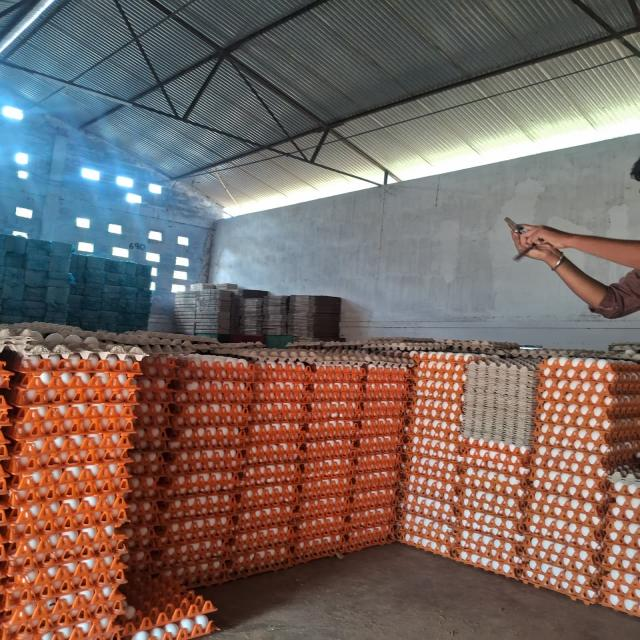egg_tray: (2, 397, 131, 640), (523, 358, 639, 602), (160, 356, 252, 586), (297, 363, 402, 560), (407, 420, 527, 576), (229, 361, 310, 578), (3, 496, 124, 636), (531, 358, 639, 502), (399, 352, 475, 556), (294, 362, 365, 562), (532, 358, 639, 490), (7, 370, 135, 474), (157, 428, 236, 584), (166, 356, 253, 496), (344, 365, 409, 550), (343, 364, 407, 550), (123, 354, 175, 580), (5, 416, 131, 504), (456, 438, 529, 577), (5, 402, 133, 481), (6, 462, 127, 544), (0, 558, 119, 640), (523, 490, 607, 602), (295, 418, 359, 561), (523, 490, 605, 601), (229, 452, 300, 577), (343, 416, 403, 550), (405, 353, 473, 466), (153, 494, 236, 586), (294, 438, 355, 561), (0, 322, 218, 356), (457, 436, 528, 538), (536, 358, 639, 428), (534, 410, 639, 478), (227, 478, 298, 578), (523, 518, 603, 602), (521, 518, 601, 602), (407, 352, 473, 453), (531, 440, 638, 502), (245, 362, 310, 464), (525, 468, 608, 544), (464, 360, 537, 446), (119, 577, 217, 640), (596, 474, 639, 614), (399, 456, 457, 556), (173, 356, 253, 428), (601, 472, 639, 616), (291, 474, 352, 561), (522, 535, 601, 602), (531, 440, 639, 488), (7, 432, 130, 474), (165, 417, 246, 480), (526, 490, 606, 550), (403, 418, 459, 502), (357, 384, 408, 476), (7, 370, 135, 406), (160, 518, 227, 586), (458, 438, 529, 500), (241, 422, 305, 488), (302, 468, 397, 512), (343, 472, 396, 550), (132, 356, 175, 452), (251, 360, 313, 424), (127, 448, 165, 552), (307, 418, 401, 460), (533, 418, 639, 454), (456, 465, 526, 518), (537, 390, 639, 426), (454, 524, 521, 578), (410, 372, 463, 440), (161, 493, 237, 540), (228, 524, 293, 578), (465, 358, 539, 404), (342, 487, 396, 550), (9, 356, 138, 382), (293, 500, 347, 562), (5, 352, 141, 376), (310, 363, 365, 422), (463, 400, 533, 446), (412, 352, 476, 402), (0, 338, 145, 360), (177, 352, 253, 392), (303, 420, 357, 476), (134, 376, 172, 453), (237, 485, 296, 534), (529, 466, 605, 504), (399, 474, 456, 524), (468, 356, 542, 394), (165, 442, 243, 478), (251, 360, 313, 404), (341, 502, 396, 551), (0, 618, 119, 640), (361, 364, 411, 416), (177, 354, 253, 388), (540, 356, 639, 382), (245, 423, 304, 466), (403, 408, 460, 452), (399, 512, 456, 556), (121, 614, 216, 640), (295, 478, 351, 522), (122, 522, 163, 580), (299, 476, 353, 518), (465, 361, 507, 414), (253, 358, 313, 394), (405, 434, 459, 474), (175, 376, 251, 404), (311, 362, 366, 399), (137, 355, 176, 404), (600, 567, 639, 616), (132, 402, 170, 452), (173, 402, 248, 427), (366, 360, 414, 398), (357, 414, 406, 451), (301, 350, 413, 366), (607, 468, 639, 522), (237, 462, 300, 489), (364, 364, 411, 400), (413, 394, 461, 424), (429, 338, 518, 354), (0, 395, 10, 526), (247, 422, 305, 444), (305, 418, 358, 442), (0, 401, 10, 526), (310, 398, 361, 421), (249, 402, 307, 422), (0, 362, 13, 440), (140, 354, 176, 382), (361, 399, 409, 419), (0, 394, 11, 462), (15, 366, 49, 388), (609, 342, 639, 359), (0, 536, 6, 598), (0, 362, 13, 390), (0, 361, 13, 389), (0, 394, 11, 426), (572, 550, 593, 564), (0, 362, 11, 388), (0, 465, 7, 496), (567, 490, 589, 499), (169, 482, 184, 495), (53, 482, 69, 494), (7, 576, 17, 594), (19, 362, 29, 378), (52, 538, 65, 548), (427, 454, 453, 459), (451, 407, 461, 420), (499, 508, 515, 516), (489, 517, 500, 528), (549, 544, 560, 554), (112, 446, 125, 454), (365, 380, 371, 397), (79, 484, 89, 494), (474, 514, 485, 523), (376, 492, 385, 500), (168, 366, 175, 376), (191, 432, 201, 438), (506, 431, 513, 439), (461, 482, 474, 486), (289, 441, 299, 446), (137, 556, 141, 568), (101, 618, 109, 624), (174, 440, 186, 444), (0, 600, 3, 616), (122, 382, 130, 388), (571, 482, 579, 488), (110, 563, 116, 571), (431, 415, 446, 418), (312, 454, 323, 458), (369, 368, 376, 374), (143, 616, 153, 620), (7, 459, 12, 467), (267, 416, 279, 419), (534, 483, 541, 488), (0, 448, 5, 455), (439, 380, 443, 388), (61, 562, 69, 566), (431, 542, 436, 548), (445, 388, 450, 394), (0, 508, 3, 518), (0, 482, 3, 492), (158, 384, 165, 388), (417, 520, 424, 524), (261, 398, 275, 400), (216, 518, 223, 522), (429, 384, 435, 388), (256, 504, 262, 508), (342, 450, 346, 456), (131, 362, 138, 365), (154, 470, 158, 475), (143, 360, 146, 366), (23, 495, 29, 498), (61, 494, 70, 496), (49, 568, 53, 572), (39, 494, 43, 498), (492, 398, 495, 402), (357, 478, 359, 484), (378, 494, 381, 498), (408, 518, 412, 521), (103, 450, 107, 453), (11, 380, 13, 386), (582, 478, 586, 481), (576, 476, 579, 480), (199, 398, 203, 401), (59, 361, 63, 364), (308, 506, 313, 508), (2, 442, 7, 444), (111, 386, 116, 388), (179, 386, 184, 388), (458, 389, 461, 392), (134, 473, 137, 476), (279, 485, 282, 488), (116, 373, 119, 376), (582, 495, 585, 498), (153, 458, 155, 462), (405, 516, 409, 518), (255, 388, 259, 390), (318, 444, 322, 446), (133, 362, 137, 364), (265, 487, 269, 489), (125, 625, 127, 628), (148, 358, 154, 359), (249, 500, 252, 502), (221, 428, 224, 430), (369, 493, 371, 496), (31, 572, 34, 574), (631, 475, 633, 478), (291, 484, 294, 486), (302, 502, 305, 504), (449, 382, 455, 383), (581, 442, 583, 445), (125, 623, 127, 625), (0, 369, 1, 373), (0, 546, 1, 550), (587, 406, 589, 408), (342, 440, 344, 442), (414, 540, 415, 543), (585, 405, 588, 406), (0, 365, 1, 367), (0, 543, 1, 545), (203, 487, 205, 488), (0, 573, 1, 575), (127, 387, 129, 388), (416, 347, 418, 348), (245, 418, 246, 419), (313, 505, 314, 506), (451, 467, 452, 468), (427, 547, 428, 547), (423, 386, 424, 386), (369, 396, 370, 396), (572, 501, 577, 501), (0, 556, 1, 556), (0, 525, 1, 525), (185, 430, 188, 430), (45, 544, 45, 546), (385, 494, 386, 494), (511, 528, 512, 528), (452, 481, 454, 481), (307, 454, 308, 454), (336, 479, 343, 479), (100, 379, 101, 379), (207, 430, 208, 430), (0, 397, 1, 397), (141, 470, 141, 470), (578, 567, 579, 567), (565, 548, 565, 548), (574, 501, 576, 501), (54, 474, 55, 474), (258, 488, 261, 488), (322, 479, 324, 479), (570, 494, 572, 494), (537, 474, 539, 474), (212, 372, 213, 372), (343, 458, 343, 458), (347, 434, 349, 434), (457, 394, 457, 394), (444, 383, 446, 383), (227, 399, 227, 399)
